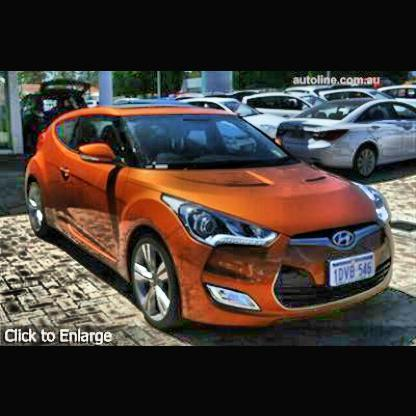Hyundai Veloster Hatchback 2012: (28, 103, 397, 331)
